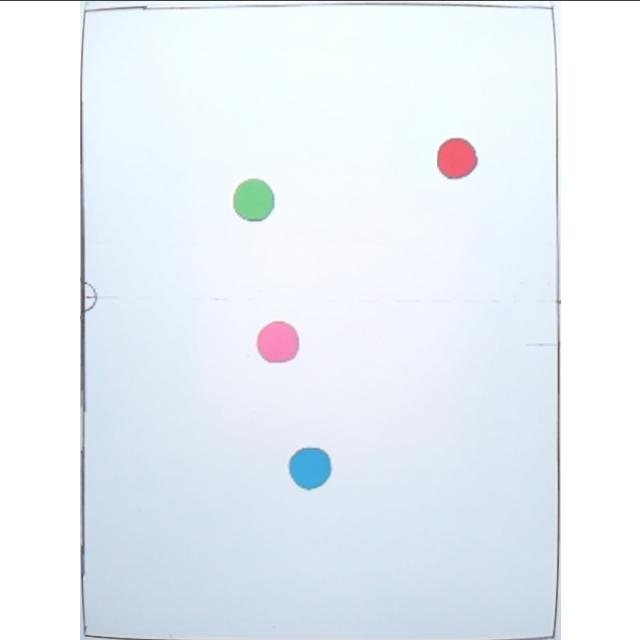blueCircle: (288, 444, 332, 488)
greenCircle: (230, 177, 276, 221)
pinkCircle: (253, 318, 301, 362)
redCircle: (433, 136, 477, 178)
